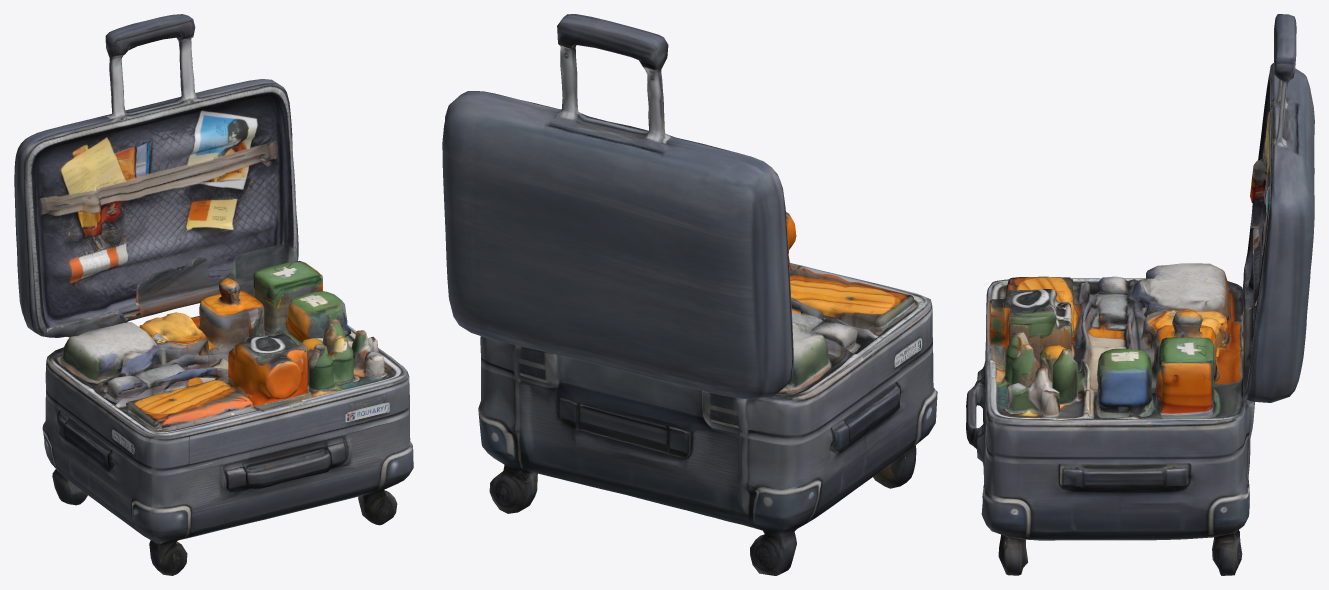
Rendered from Meshy_AI_Adventure_Essentials_0125034603_texture.glb.
3 renders of one model, left to right at view 1: azimuth 30°, elevation 25°; view 2: azimuth 150°, elevation 25°; view 3: azimuth 270°, elevation 25°, orthographic. The views are drawn at different scales.
Bounding box in the file's own units: 1.34 × 2.01 × 1.31.
1 material, 1 textured.
